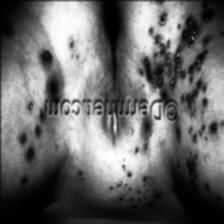Toxin: (137, 0, 223, 94), (179, 104, 224, 207), (105, 144, 163, 214), (6, 103, 42, 187), (30, 42, 63, 100), (66, 32, 86, 64), (0, 15, 16, 39), (140, 116, 153, 134)
